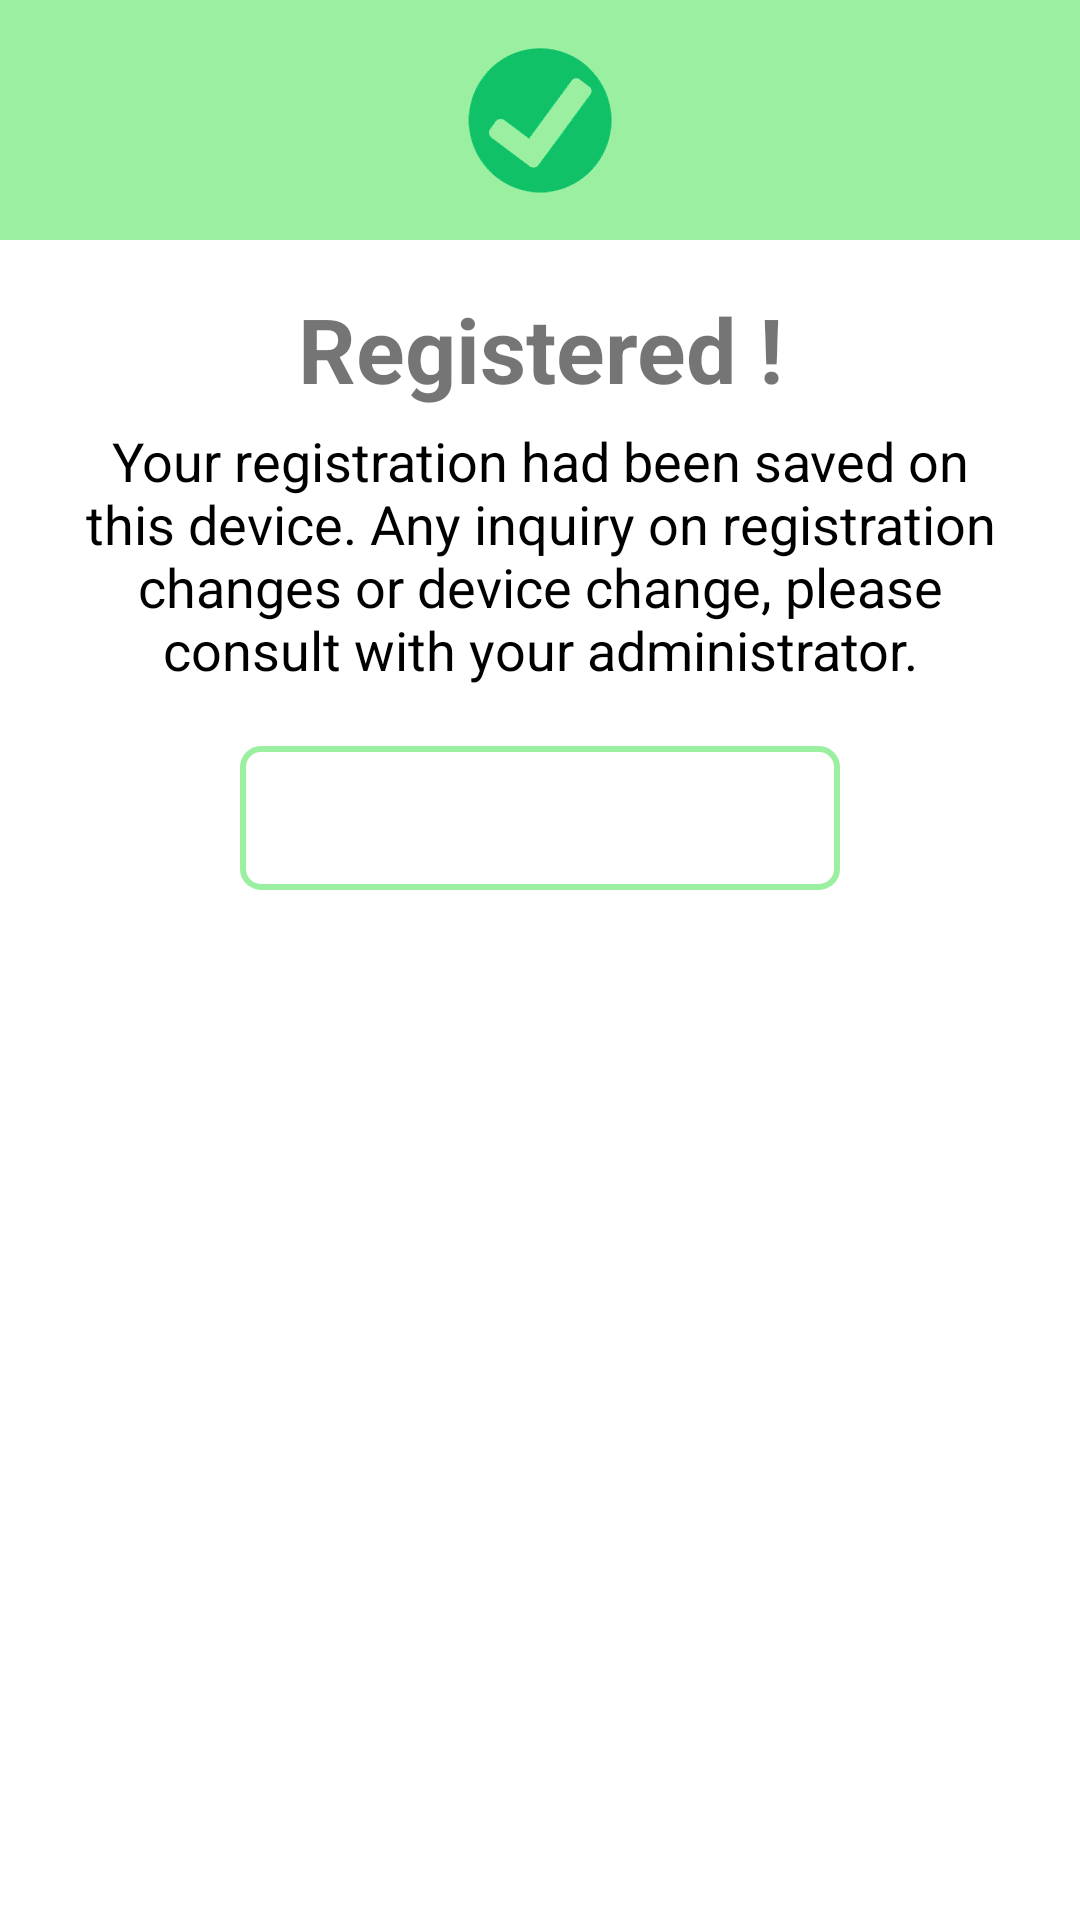

Where to tap for icons on this 1080×1920 app screen, as [x,y]:
tick: [540,120]
